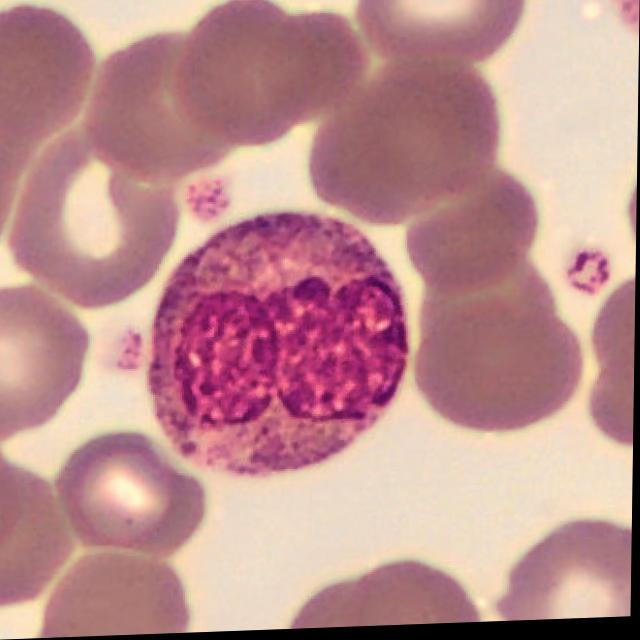Neutrofilo segmentado: (151, 217, 407, 476)
